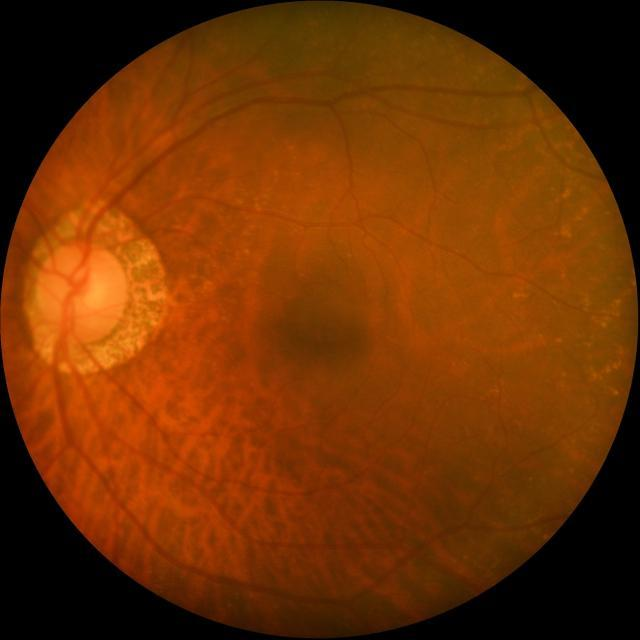OC: (63, 270, 104, 312)
OD: (34, 240, 126, 342)
